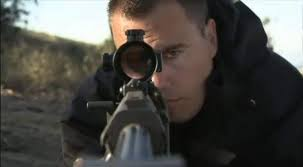Gun: (102, 41, 164, 133)
